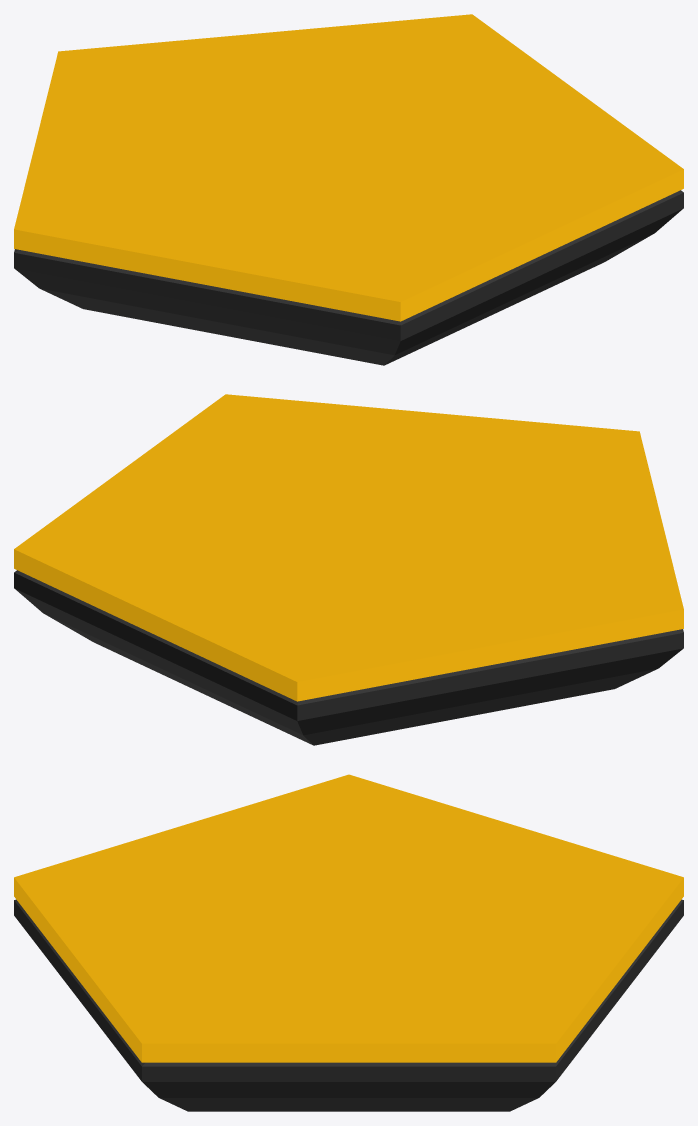
File: MoonTower_Action_Elevator.glb
3 renders of one model, top to bottom at view 1: azimuth 30°, elevation 25°; view 2: azimuth 150°, elevation 25°; view 3: azimuth 270°, elevation 25°, orthographic. The views are drawn at different scales.
Visible parts, largest first — view 1: MoonTower_Action_Elevator; view 2: MoonTower_Action_Elevator; view 3: MoonTower_Action_Elevator.
Part boxes in pixels (<box>): MoonTower_Action_Elevator: <box>14,14,683,365</box>; MoonTower_Action_Elevator: <box>14,394,683,745</box>; MoonTower_Action_Elevator: <box>14,774,683,1111</box>.
Size of what is drawn, in the model's own units: 4.23 by 1.03 by 4.45.
3 materials, 3 textured.
